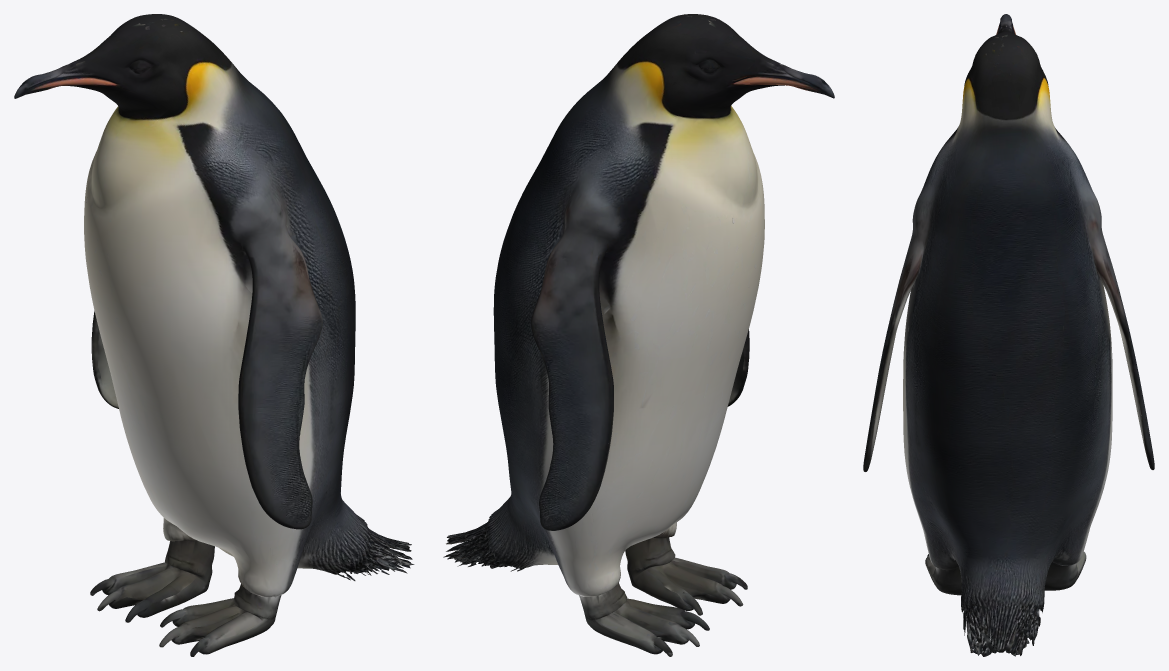
Rendered from emperor-penguin.glb.
3 views of the same model, side by side, from view 1: azimuth 30°, elevation 25°; view 2: azimuth 150°, elevation 25°; view 3: azimuth 270°, elevation 25° (orthographic). The views are drawn at different scales.
Visible parts, largest first — view 1: node_0; view 2: node_0; view 3: node_0.
Boxes of the visible parts, x1=… form: node_0: x1=14, y1=14, x2=414, y2=656; node_0: x1=443, y1=14, x2=834, y2=656; node_0: x1=863, y1=14, x2=1154, y2=656.
Bounding box in the file's own units: 0.6979 × 1.02 × 0.5197.
1 material, 1 textured.
